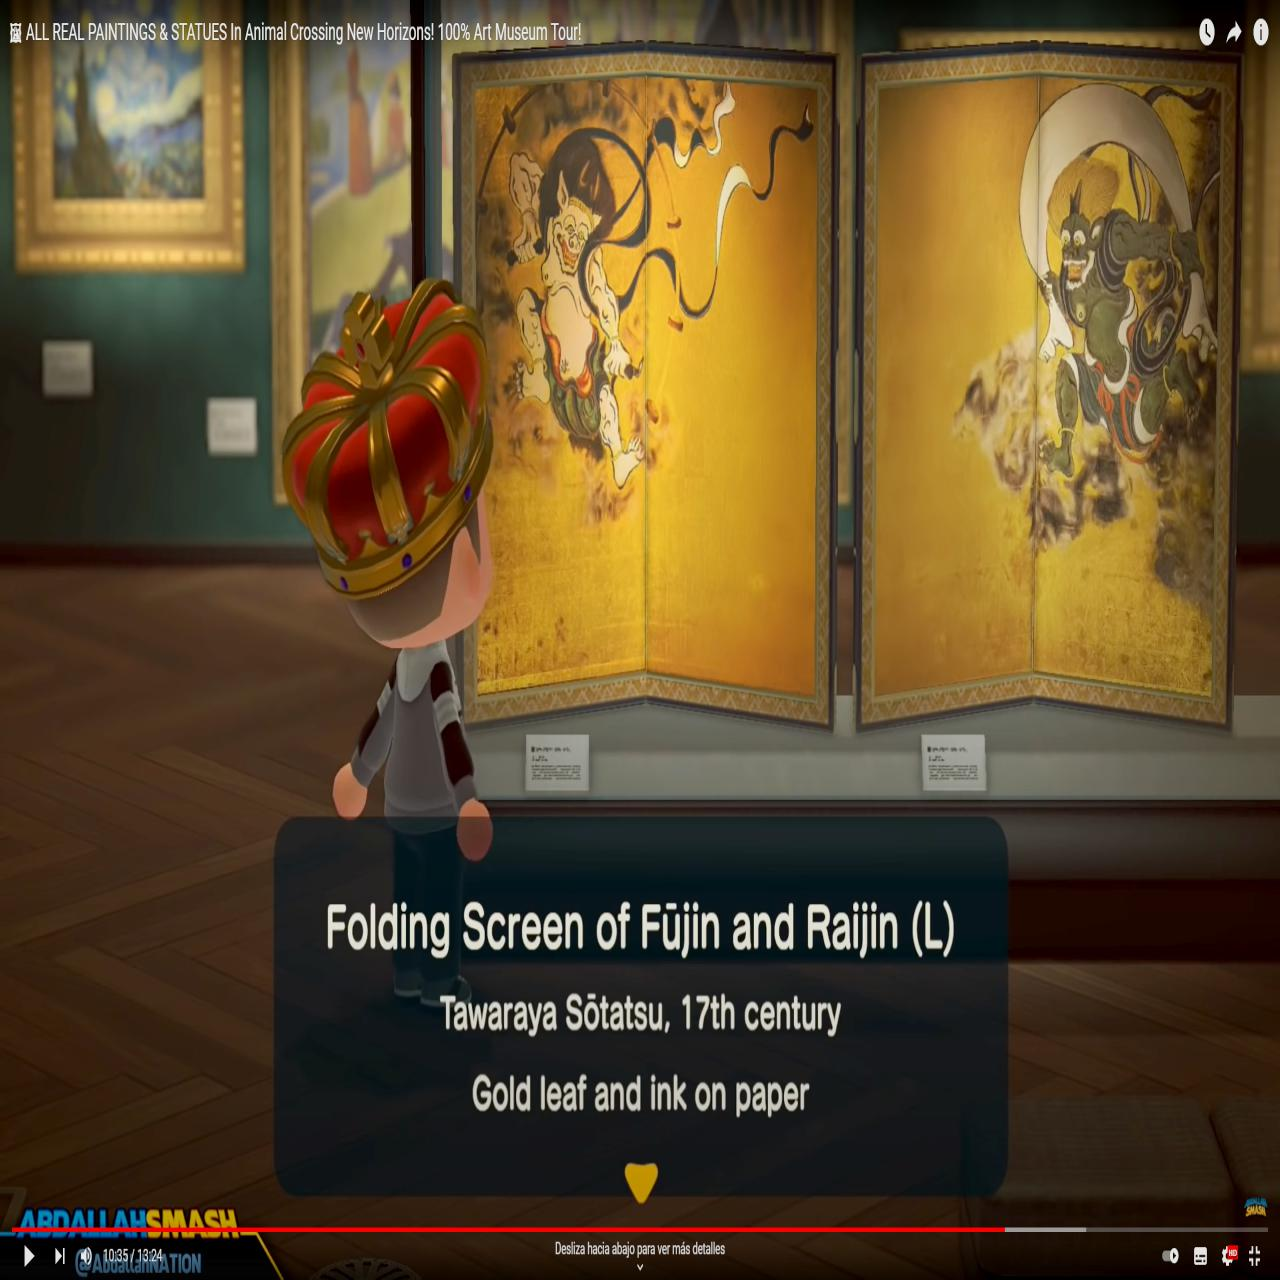Fuujin: (880, 80, 1219, 699)
Raijin: (472, 81, 819, 703)
StarryNight: (52, 12, 204, 198)
